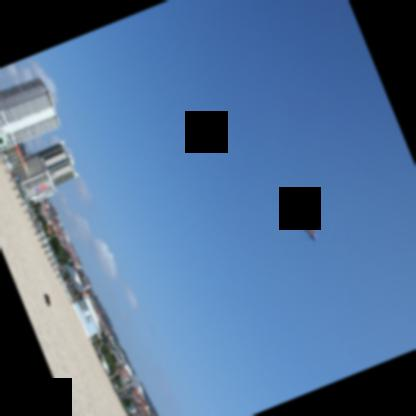backpack: (43, 294, 50, 307)
